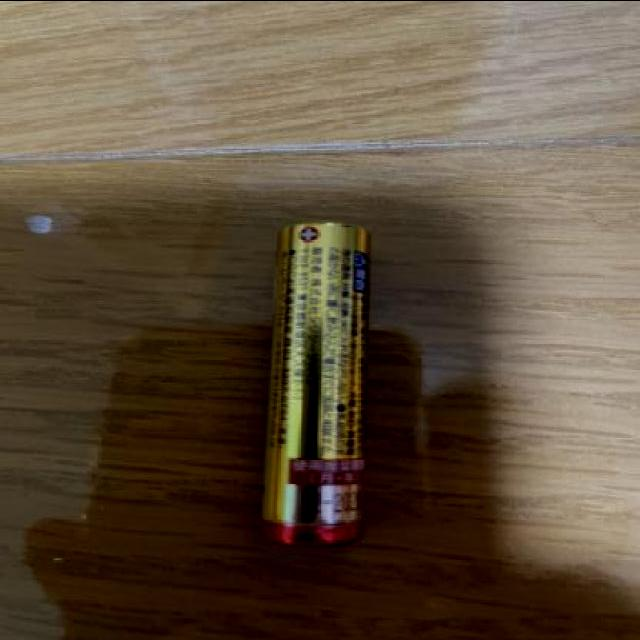AA: (252, 203, 397, 572)
